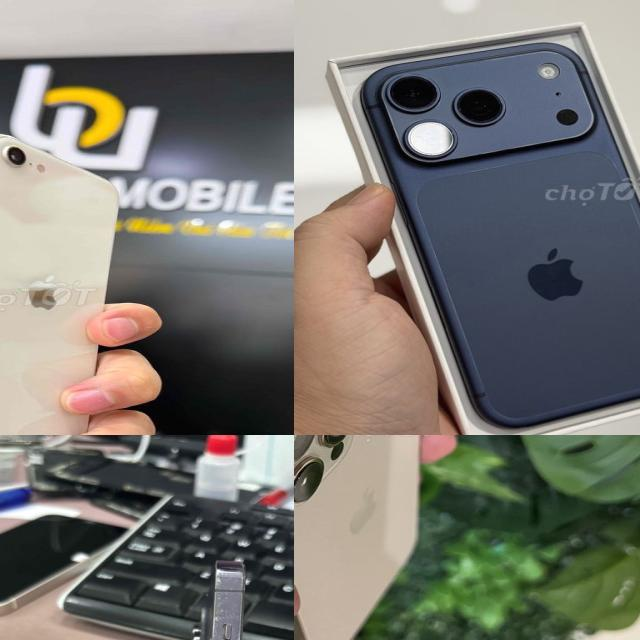scratch: (211, 569, 235, 640)
